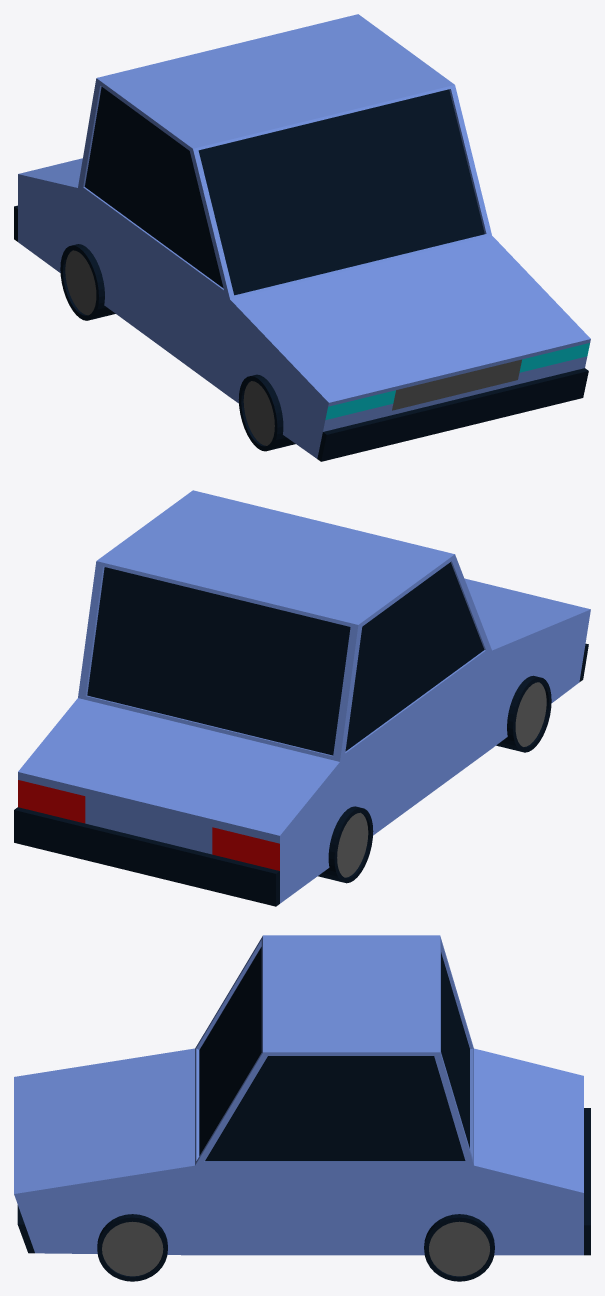
File: Car3.fbx
The picture shows the model from 3 angles, top to bottom: view 1: azimuth 30°, elevation 25°; view 2: azimuth 150°, elevation 25°; view 3: azimuth 270°, elevation 25°; orthographic projection. The views are drawn at different scales.
Parts seen in each view (by area): view 1: Car3; view 2: Car3; view 3: Car3.
Boxes of the visible parts, <box> form: Car3: <box>14,14,590,461</box>; Car3: <box>14,490,590,906</box>; Car3: <box>14,935,590,1281</box>.
Bounding box in the file's own units: 274 × 234 × 542.
